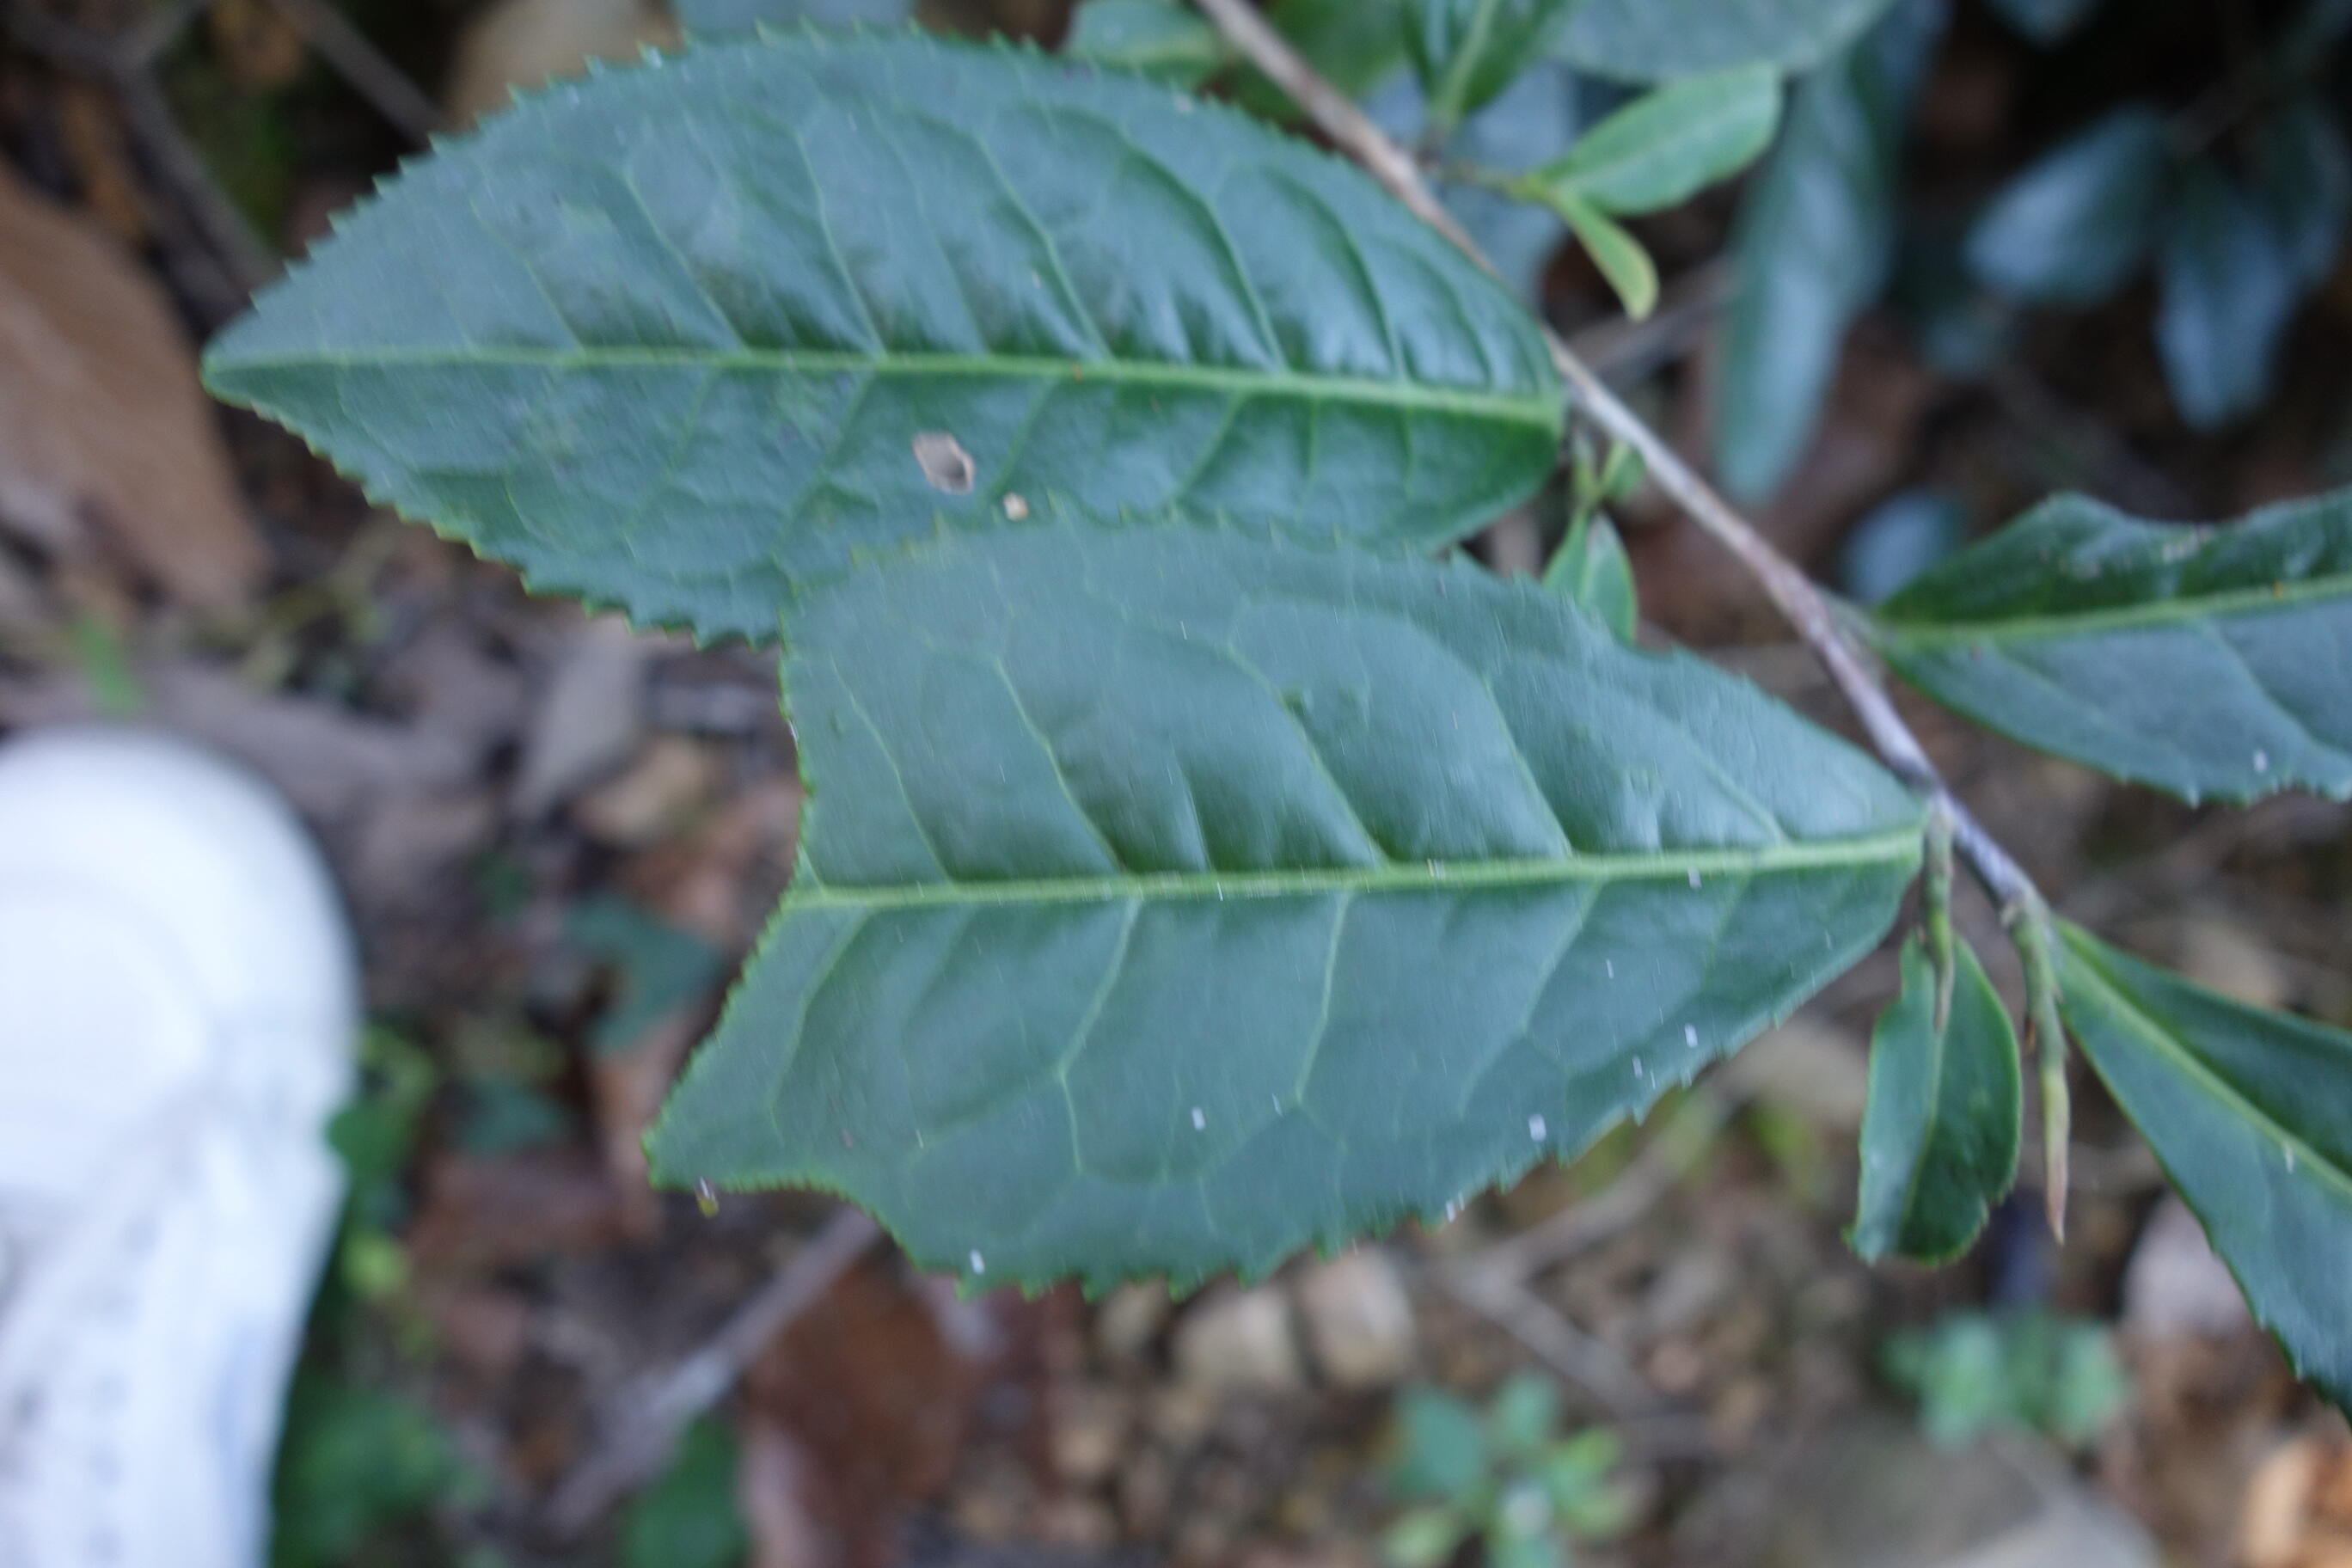chihuo_high: (632, 490, 1927, 1309)
chihuo_low: (205, 12, 1578, 633)
